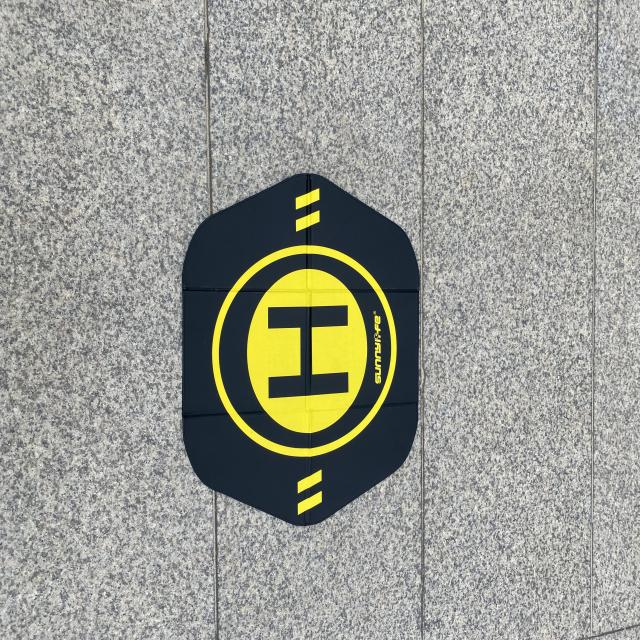helipad: (203, 235, 407, 464)
